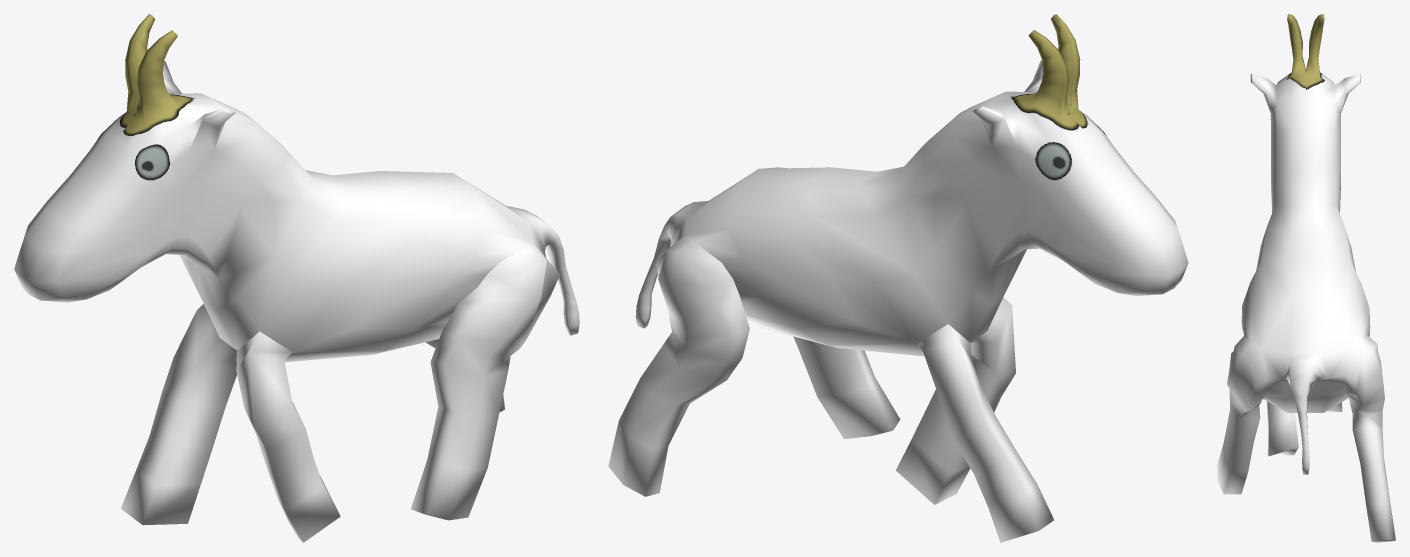
The model's file is goatAnim_000006.obj.
The picture shows the model from 3 angles, left to right: view 1: azimuth 30°, elevation 25°; view 2: azimuth 150°, elevation 25°; view 3: azimuth 270°, elevation 25°; orthographic projection. The views are drawn at different scales.
Parts seen in each view (by area): view 1: Cube; view 2: Cube; view 3: Cube.
Part boxes in pixels (bbox=[...]): Cube: bbox=[14, 14, 579, 542]; Cube: bbox=[608, 14, 1188, 542]; Cube: bbox=[1217, 14, 1395, 542].
Size of the model in its own units: 1.31 by 1.19 by 0.4842.
